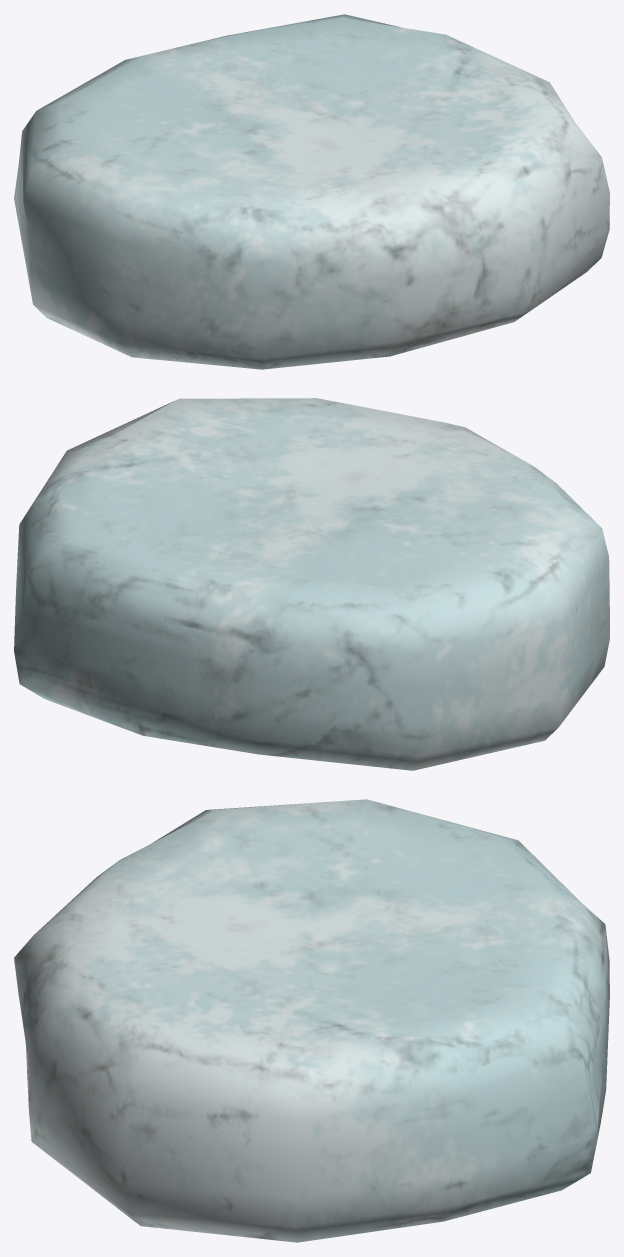
The model's file is IceBrock004.fbx.
3 views of the same model, one above another, from view 1: azimuth 30°, elevation 25°; view 2: azimuth 150°, elevation 25°; view 3: azimuth 270°, elevation 25° (orthographic). The views are drawn at different scales.
Parts seen in each view (by area): view 1: ice_brock3_low; view 2: ice_brock3_low; view 3: ice_brock3_low.
Boxes of the visible parts, bbox=[...] form: ice_brock3_low: bbox=[14, 14, 609, 369]; ice_brock3_low: bbox=[14, 398, 609, 770]; ice_brock3_low: bbox=[14, 799, 609, 1242].
Size of the model in its own units: 0.1018 by 0.0313 by 0.087.
1 material, 1 textured.
